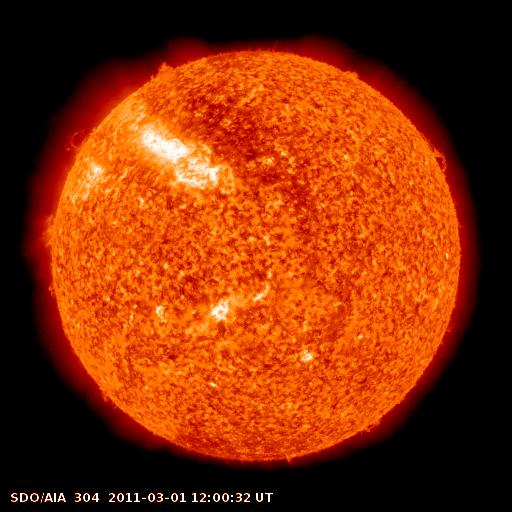prominence: (415, 128, 455, 182), (31, 208, 67, 258), (57, 120, 97, 159), (145, 55, 178, 87)
